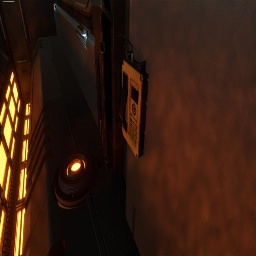EmergencyPhone ,: (117, 34, 149, 158)
